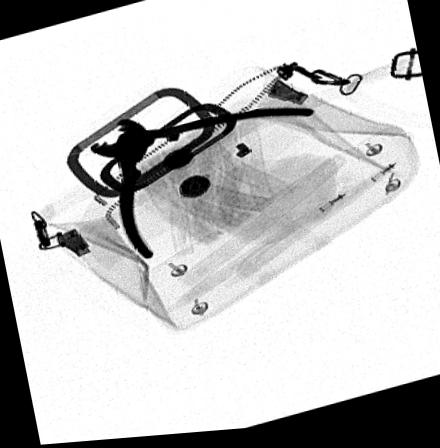Pliers: (86, 111, 314, 261)
